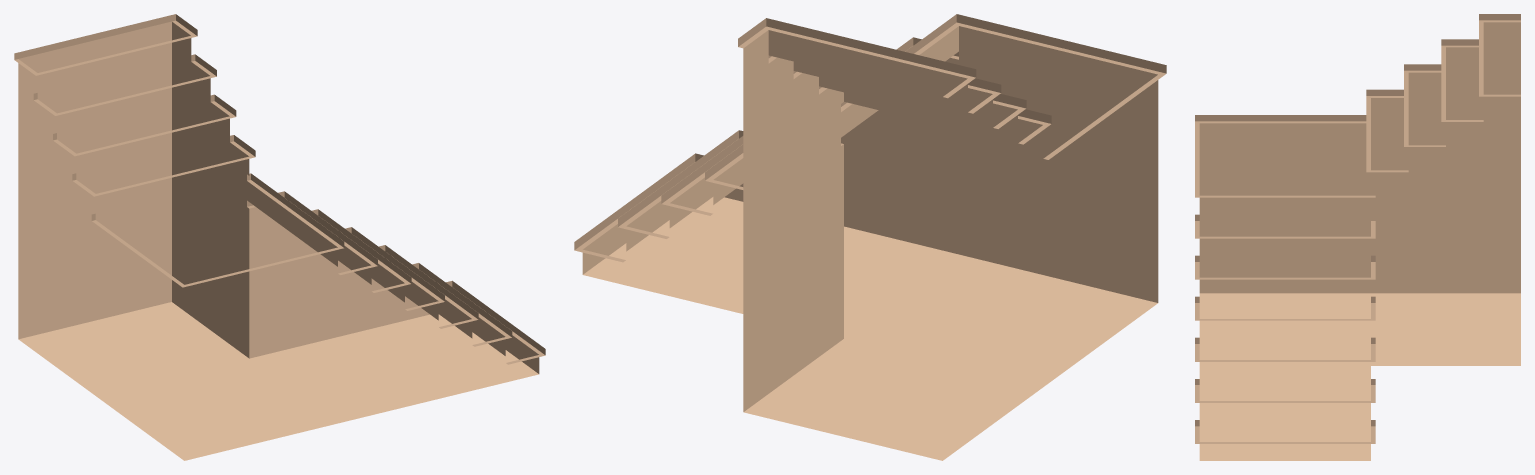
Rendered from stairsCornerMirrored2.glb.
The picture shows the model from 3 angles, left to right: view 1: azimuth 30°, elevation 25°; view 2: azimuth 150°, elevation 25°; view 3: azimuth 270°, elevation 25°; orthographic projection. The views are drawn at different scales.
Parts seen in each view (by area): view 1: stairsCorner(Clone); view 2: stairsCorner(Clone); view 3: stairsCorner(Clone).
Boxes of the visible parts, box(x1,y1,x2,y2) form: stairsCorner(Clone): box(14, 14, 545, 460); stairsCorner(Clone): box(574, 14, 1166, 460); stairsCorner(Clone): box(1195, 14, 1520, 460).
Size of the model in its own units: 1.77 by 1.34 by 1.43.
